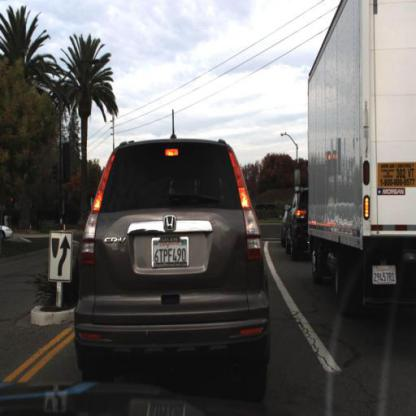car: (78, 136, 270, 391), (285, 187, 316, 257), (1, 221, 15, 243)
truck: (307, 1, 416, 321)
